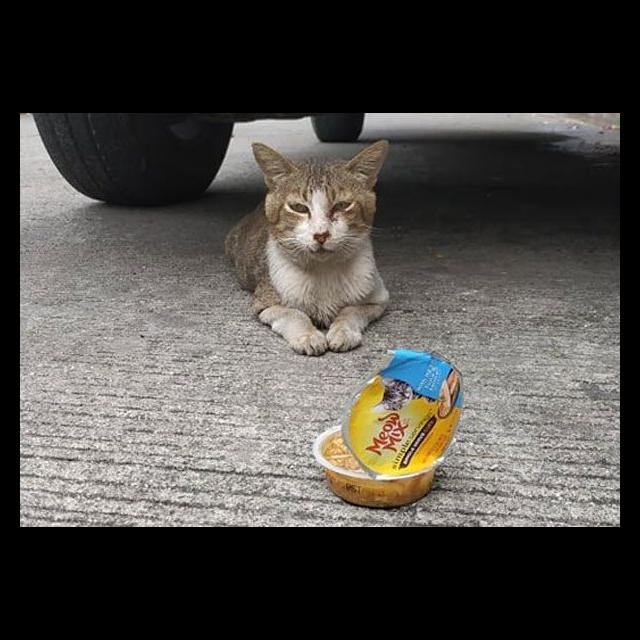animals: (246, 136, 396, 268)
